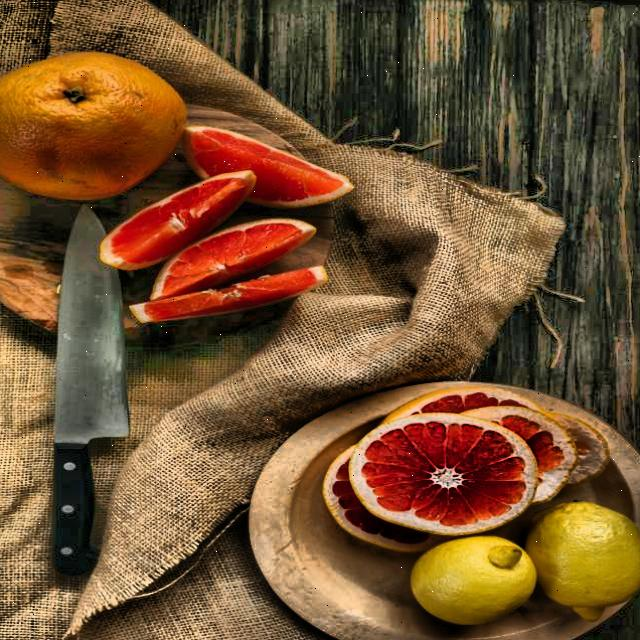knife: (47, 193, 140, 585)
